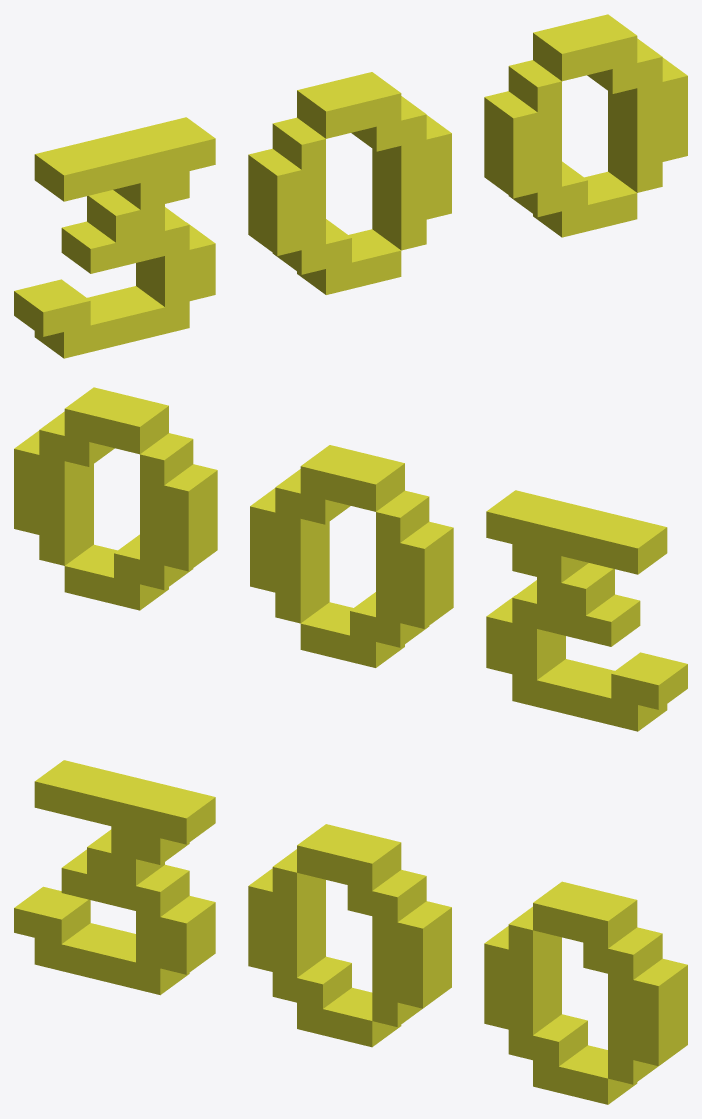
The picture shows the model from 3 angles, top to bottom: view 1: azimuth 30°, elevation 25°; view 2: azimuth 150°, elevation 25°; view 3: azimuth 330°, elevation 25°; orthographic projection.
Parts seen in each view (by area): view 1: 3, 0.2, 0; view 2: 3, 0.2, 0; view 3: 3, 0.2, 0.
Part boxes in pixels (x1,y1,x2,y2): 3: (14, 117, 215, 358); 0.2: (484, 14, 687, 237); 0: (248, 72, 451, 294); 3: (486, 490, 687, 731); 0.2: (14, 387, 217, 610); 0: (250, 445, 453, 667); 3: (14, 760, 215, 995); 0.2: (484, 881, 687, 1104); 0: (248, 824, 451, 1047).
Bounding box in the file's own units: 383 × 104 × 30.
